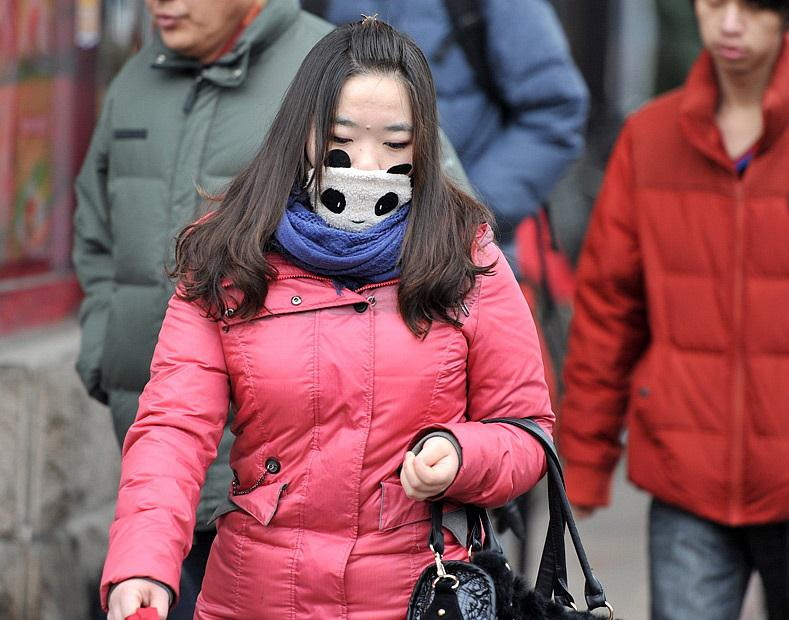NONE: (700, 1, 781, 69), (141, 1, 234, 50)
WRONG: (305, 113, 417, 225)
